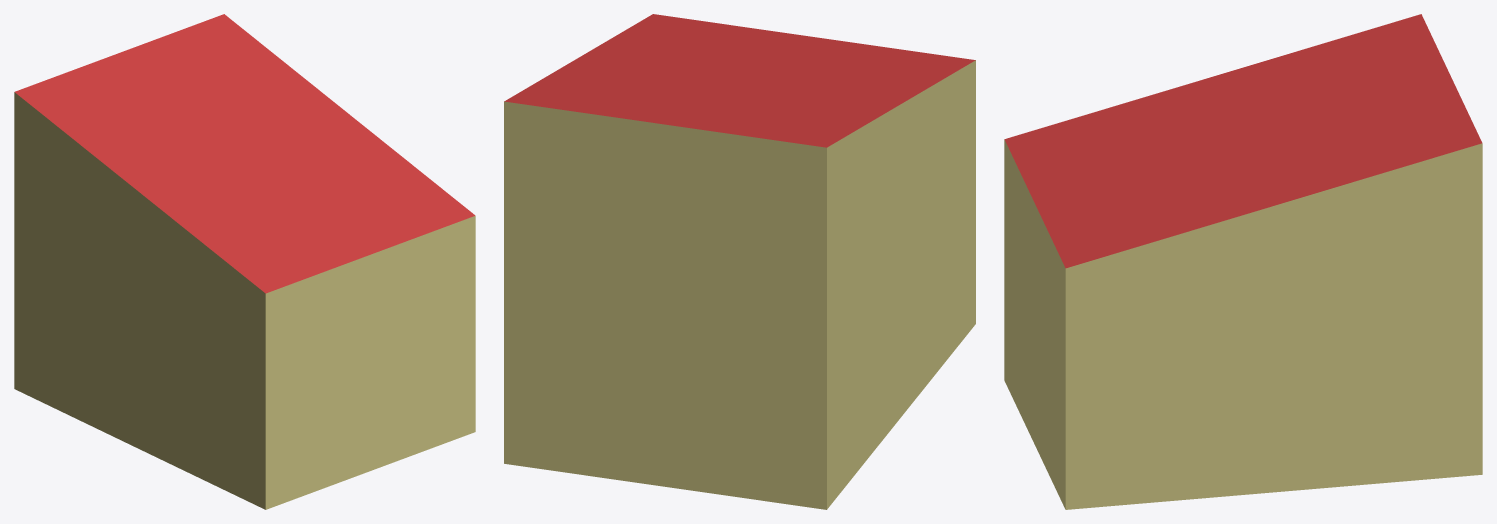
The picture shows the model from 3 angles, left to right: view 1: azimuth 30°, elevation 25°; view 2: azimuth 150°, elevation 25°; view 3: azimuth 270°, elevation 25°; orthographic projection. The views are drawn at different scales.
Parts seen in each view (by area): view 1: group_4, group_3; view 2: group_4, group_3; view 3: group_4, group_3.
Boxes of the visible parts, x1=… form: group_4: x1=14, y1=92, x2=475, y2=509; group_3: x1=15, y1=14, x2=475, y2=293; group_4: x1=504, y1=60, x2=975, y2=509; group_3: x1=504, y1=14, x2=975, y2=147; group_4: x1=1004, y1=139, x2=1482, y2=509; group_3: x1=1004, y1=14, x2=1482, y2=268.
Bounding box in the file's own units: 8.64 × 10.61 × 8.12.
